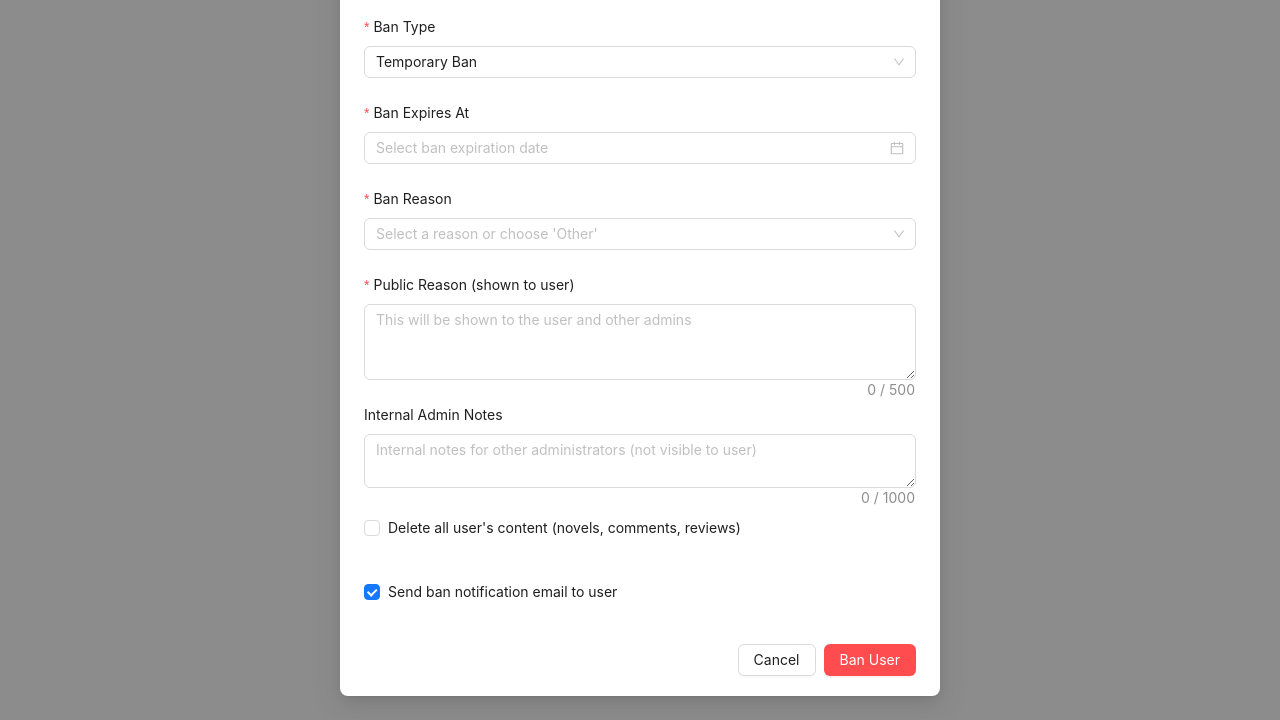
Test: BanUserModal › Form Validation › should show validation error when submitting without required fields
The width and height of the screenshot is (1280, 720).
(page scrolled)
Click the button "Ban User". click: (870, 660)
box: [824,644,916,676]
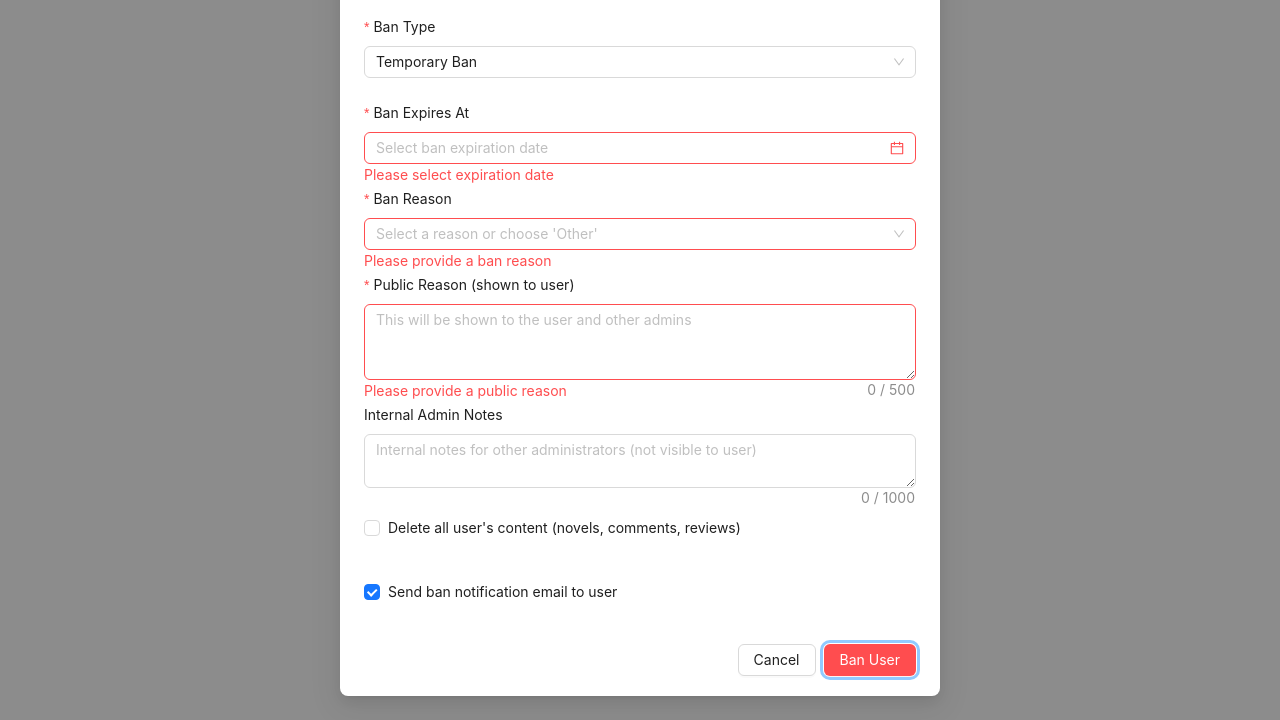
Expected: the text "Please select expiration date" is shown, [364,166,554,183]
Expected: the text "Please provide a ban reason" is shown, [364,252,552,269]
Expected: the text "Please provide a public reason" is shown, [364,382,567,399]
